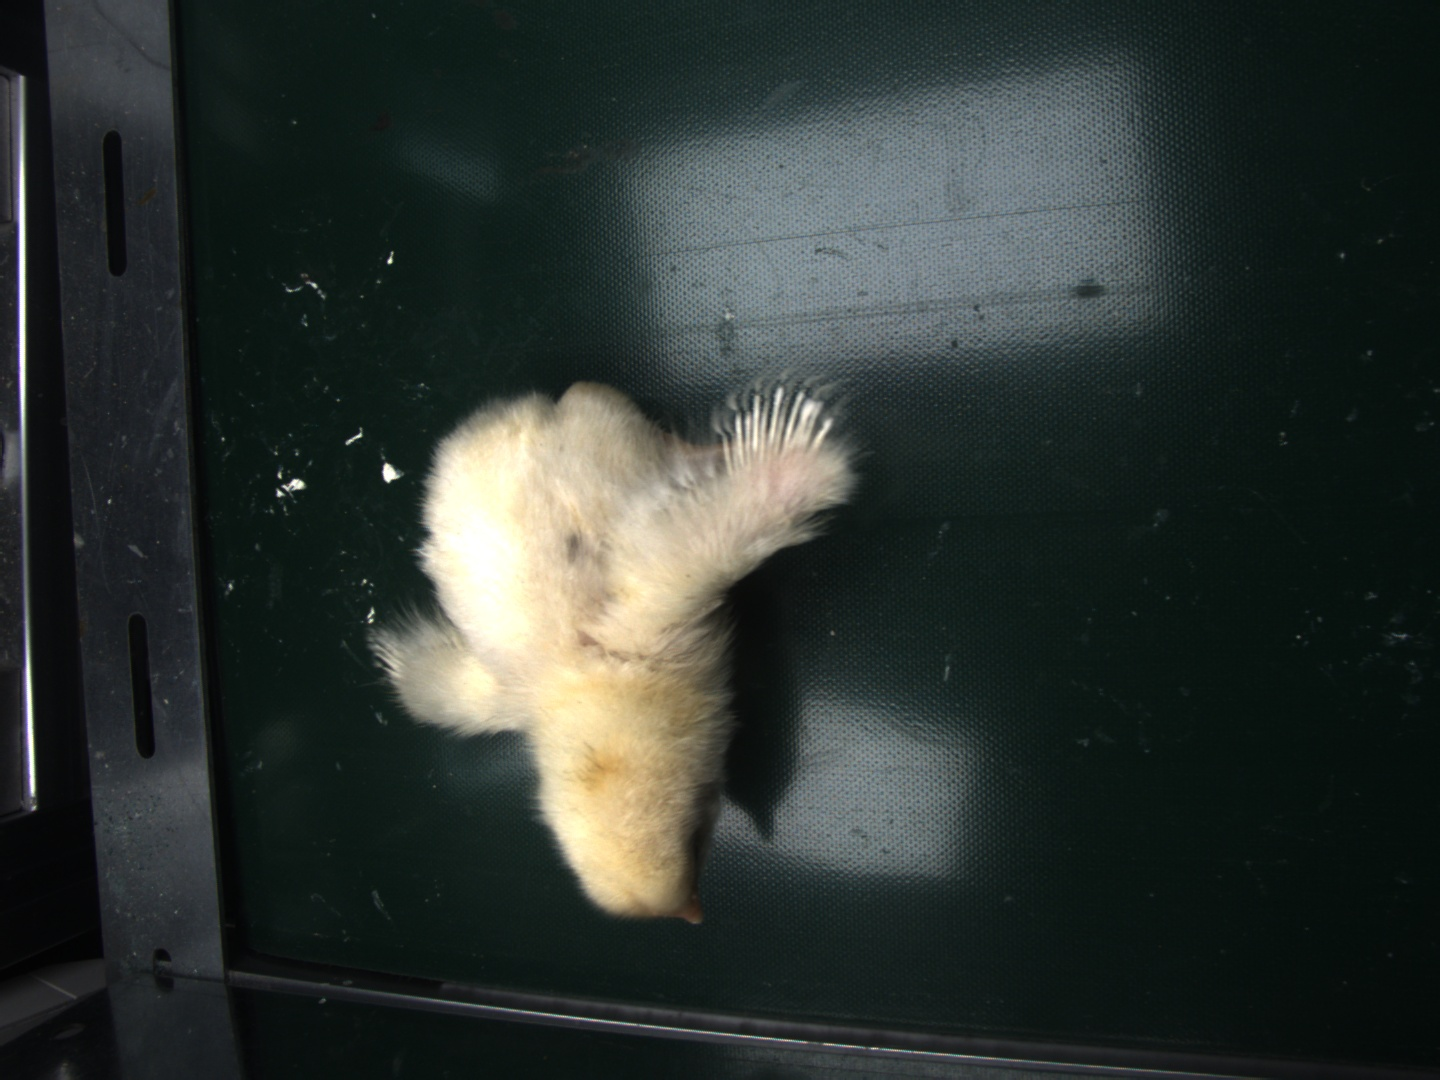male: (728, 382, 839, 458)
